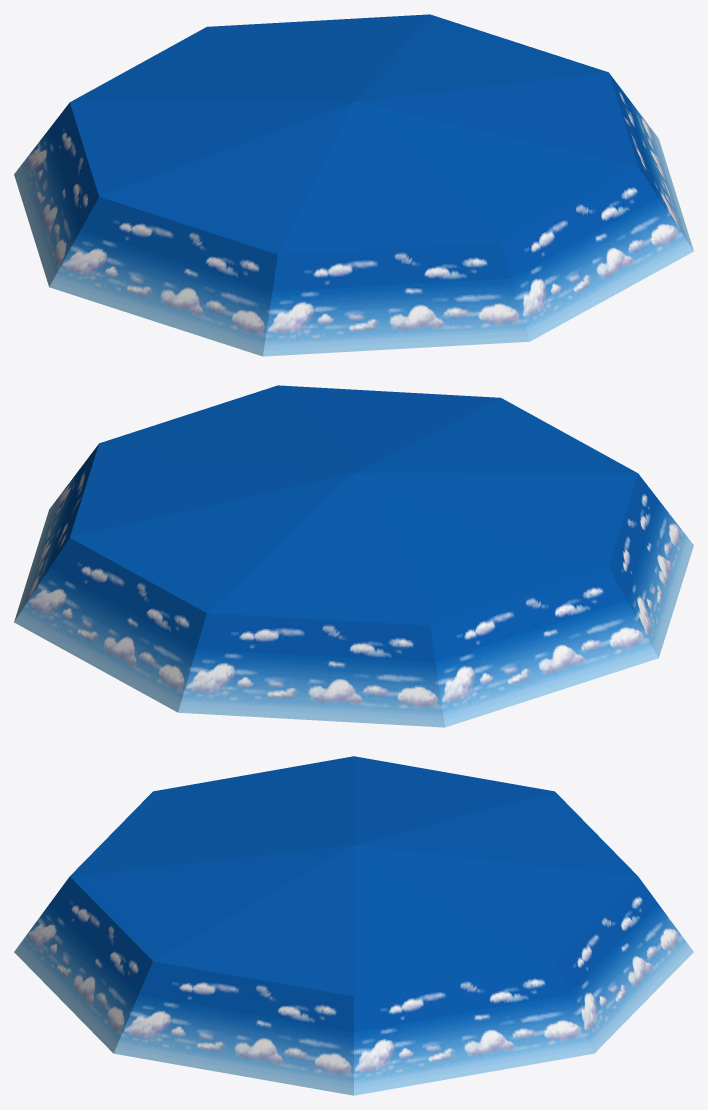
The model's file is town_course-town_course_V.glb.
3 renders of one model, top to bottom at view 1: azimuth 30°, elevation 25°; view 2: azimuth 150°, elevation 25°; view 3: azimuth 270°, elevation 25°, orthographic. The views are drawn at different scales.
Visible parts, largest first — view 1: town_course_V; view 2: town_course_V; view 3: town_course_V.
Part boxes in pixels (left/top/right/bottom): town_course_V: left=14, top=14, right=693, bottom=356; town_course_V: left=14, top=385, right=693, bottom=727; town_course_V: left=14, top=756, right=693, bottom=1095.
Bounding box in the file's own units: 900 × 228 × 900.
Materials: 1 (1 with a texture image).
